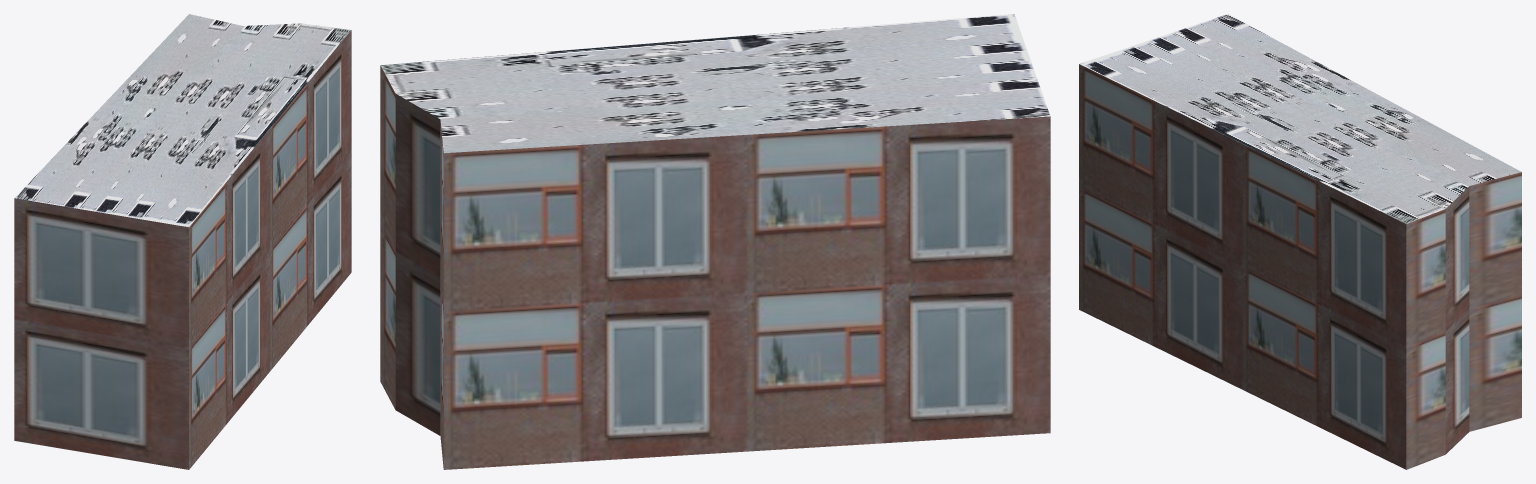
The model's file is ResTex__1455.fbx.
The picture shows the model from 3 angles, left to right: view 1: azimuth 30°, elevation 25°; view 2: azimuth 150°, elevation 25°; view 3: azimuth 270°, elevation 25°; orthographic projection. The views are drawn at different scales.
Parts seen in each view (by area): view 1: CityEngineMaterial_19_m, CityEngineMaterial_m; view 2: CityEngineMaterial_19_m, CityEngineMaterial_m; view 3: CityEngineMaterial_19_m, CityEngineMaterial_m.
Boxes of the visible parts, x1,y1,x2,y2 form: CityEngineMaterial_19_m: (14, 30, 351, 469); CityEngineMaterial_m: (14, 14, 350, 227); CityEngineMaterial_19_m: (380, 65, 1050, 469); CityEngineMaterial_m: (380, 14, 1049, 153); CityEngineMaterial_19_m: (1079, 64, 1521, 469); CityEngineMaterial_m: (1079, 14, 1521, 223).
Bounding box in the file's own units: 11 × 6 × 9.8.
Materials: 2 (2 with a texture image).
